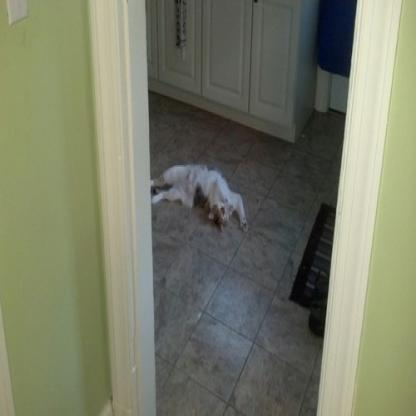Target: (150, 159, 248, 236)
